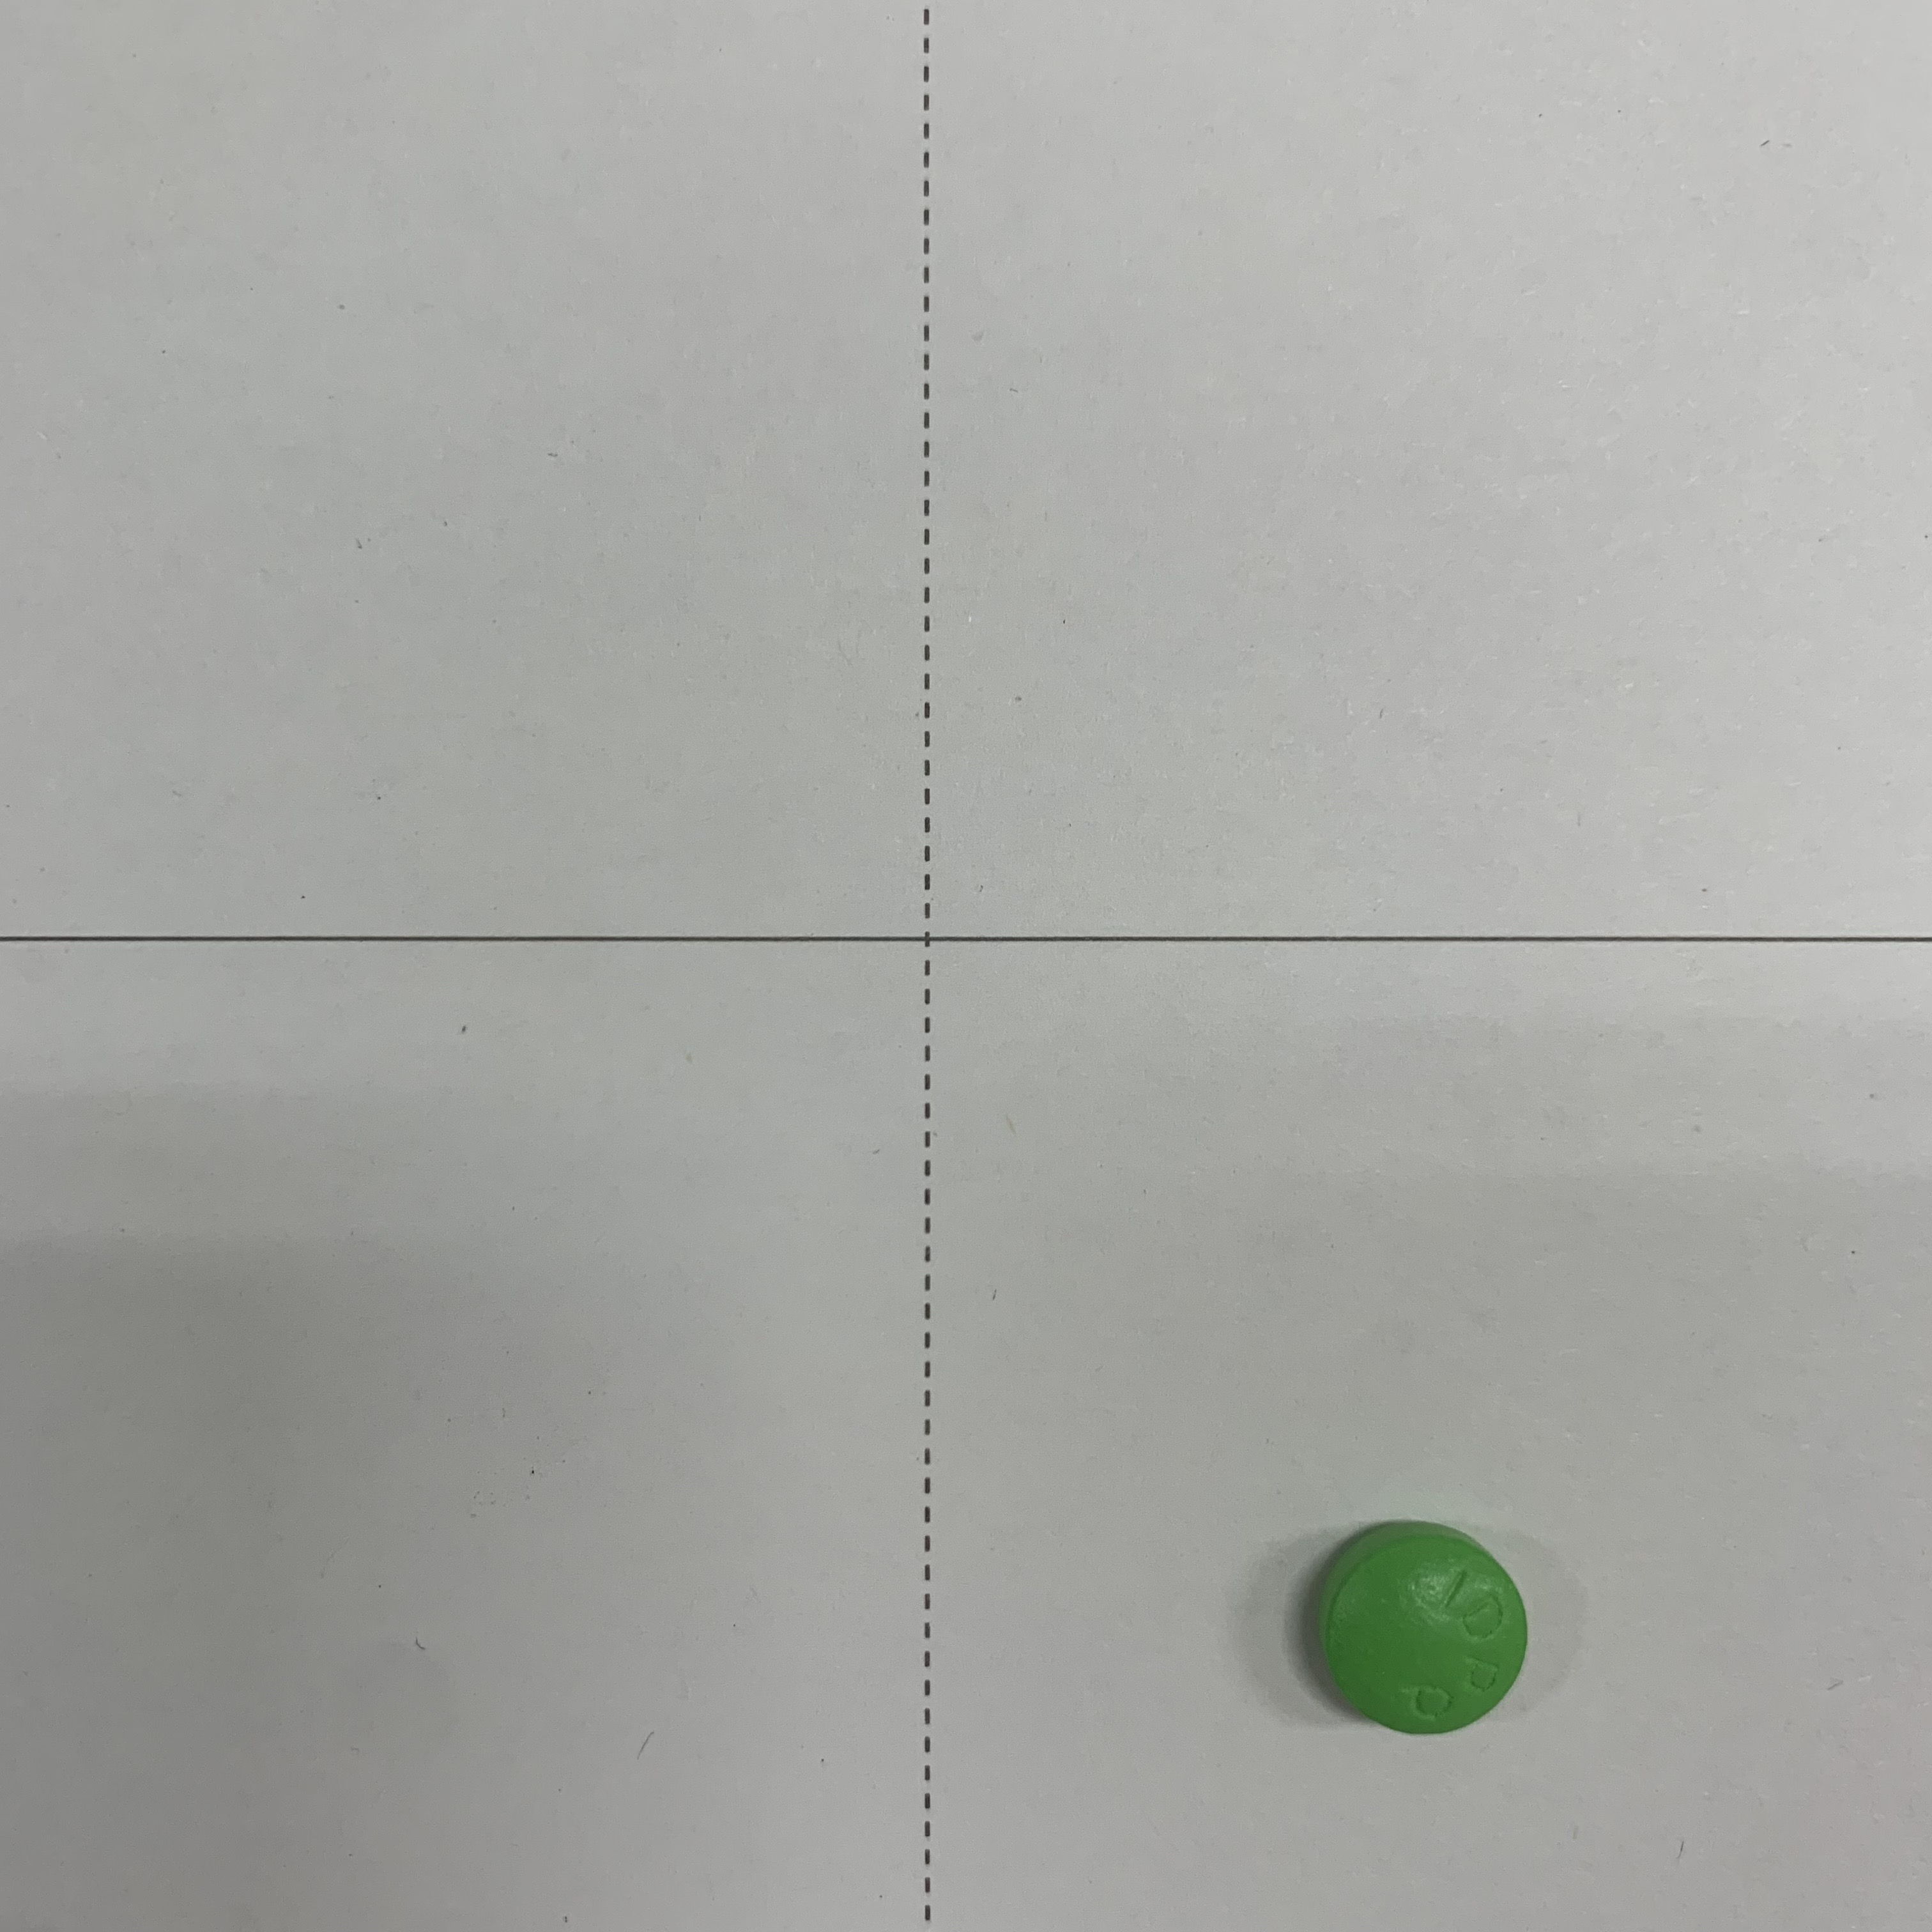cir_drug: (1279, 1514, 1559, 1748)
